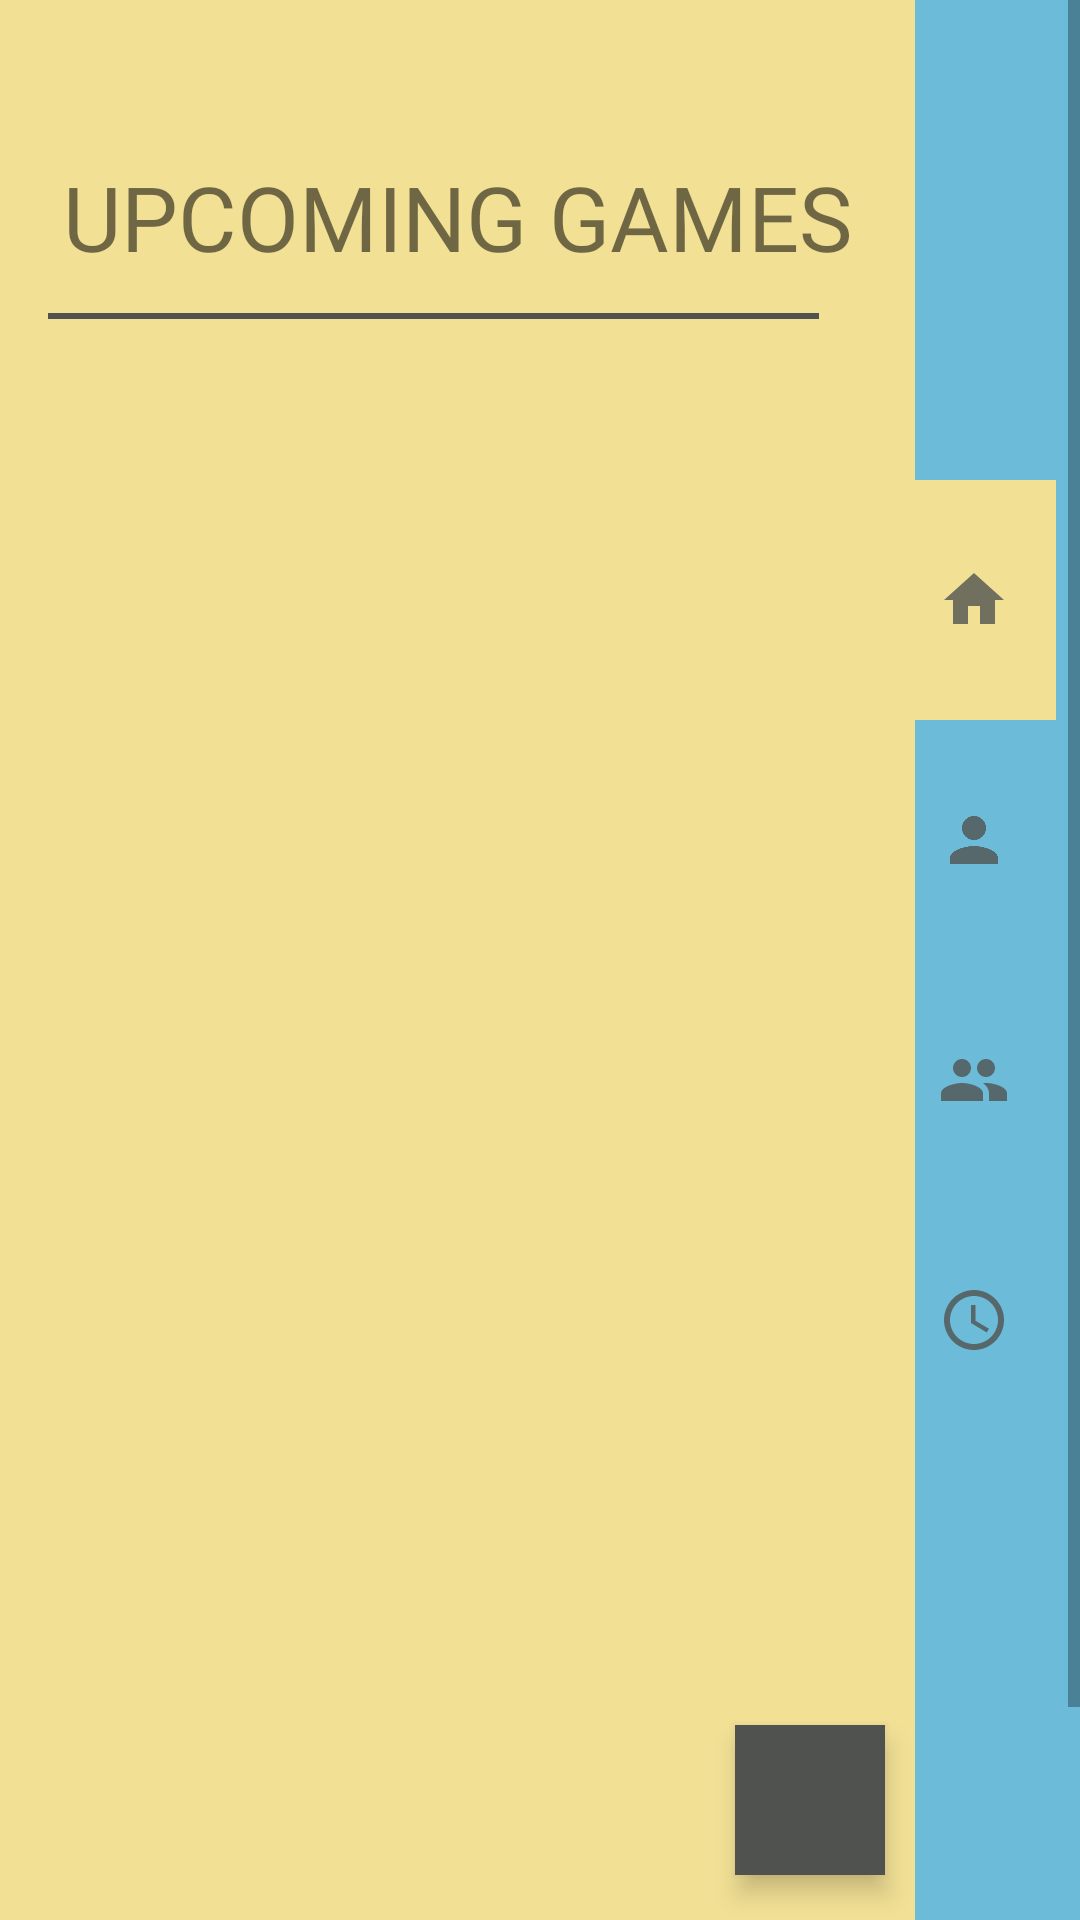

Screen size 1080px x 1920px. Icon name, then its center in pixels as (x,y):
home: (974,598)
